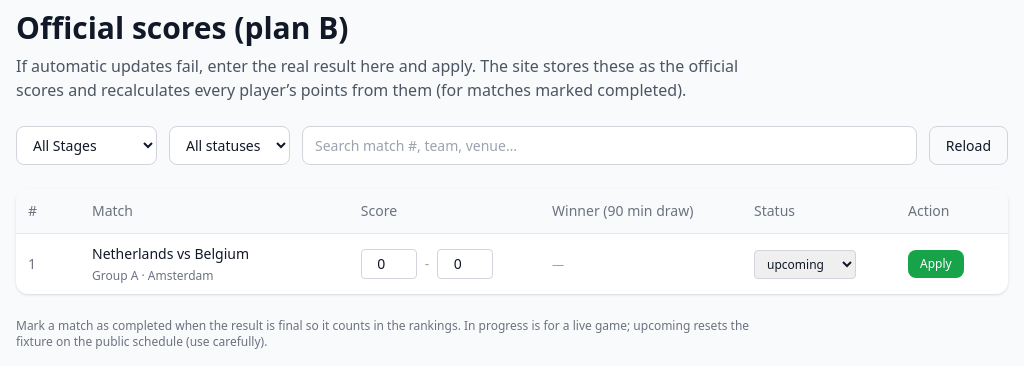
it: AdminScores page › filters matches by search text
Expected: the text "Netherlands vs Belgium" is shown, [92,244,249,263]
Step 1. Type "zzz-no-match" into the field with placeholder "Search match #, team, venue…" → (609, 146), box [302,126,917,165]
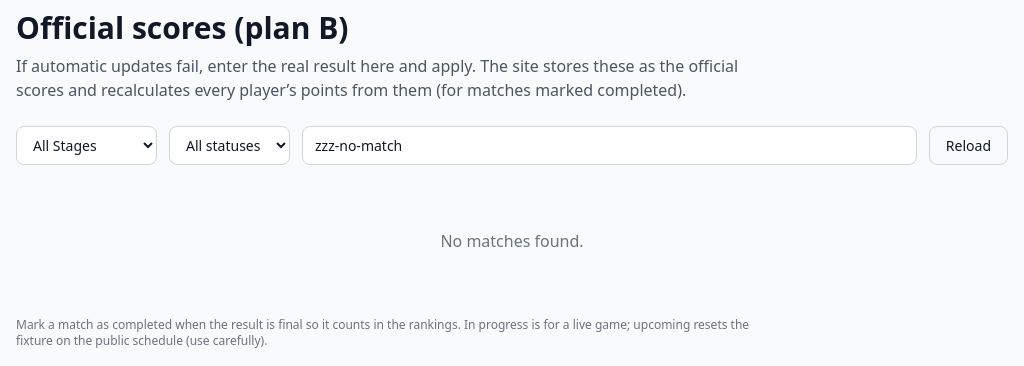
Expected: the text "No matches found." is shown, [440,230,584,252]
